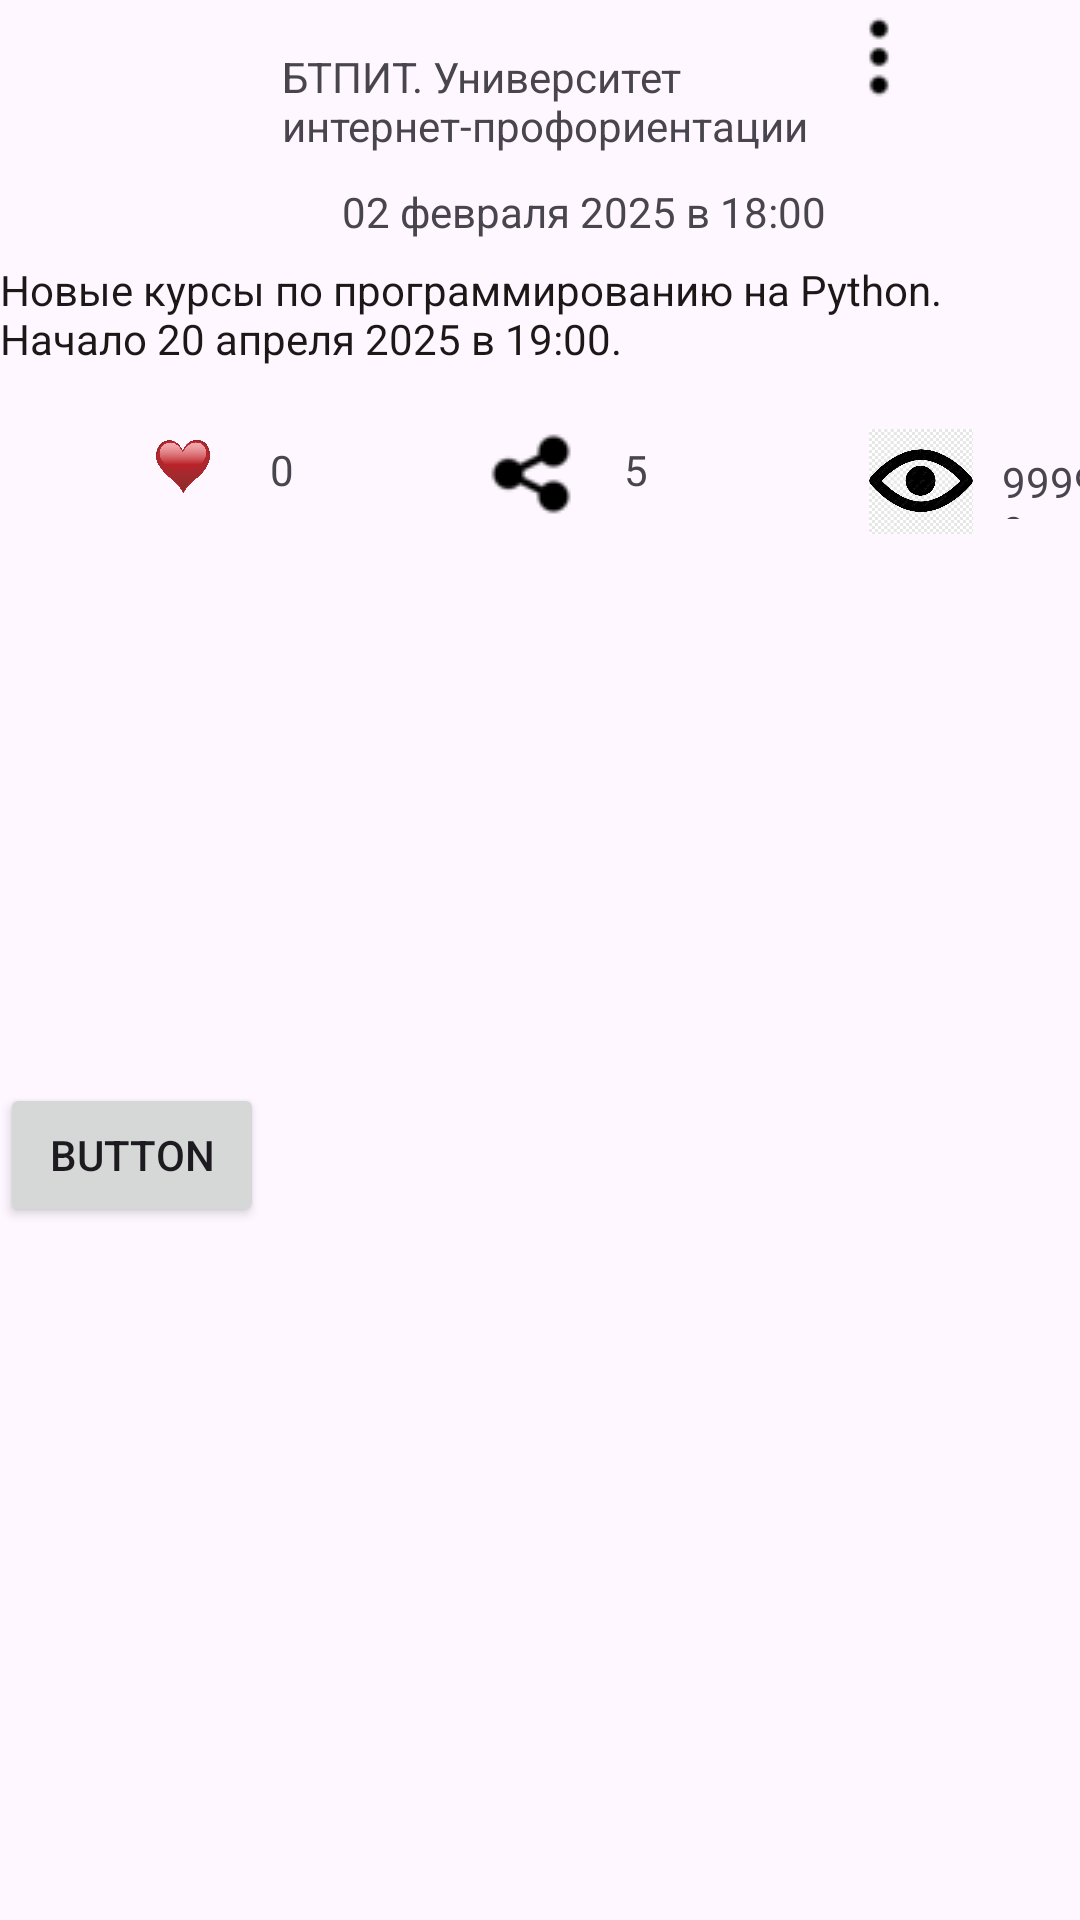

Named icons in this screenshot (1080px x 1920px) and their bounding boxes, BBox(x1, y1, x2, y2):
eye: BBox(869, 429, 973, 534)
share: BBox(491, 434, 571, 514)
